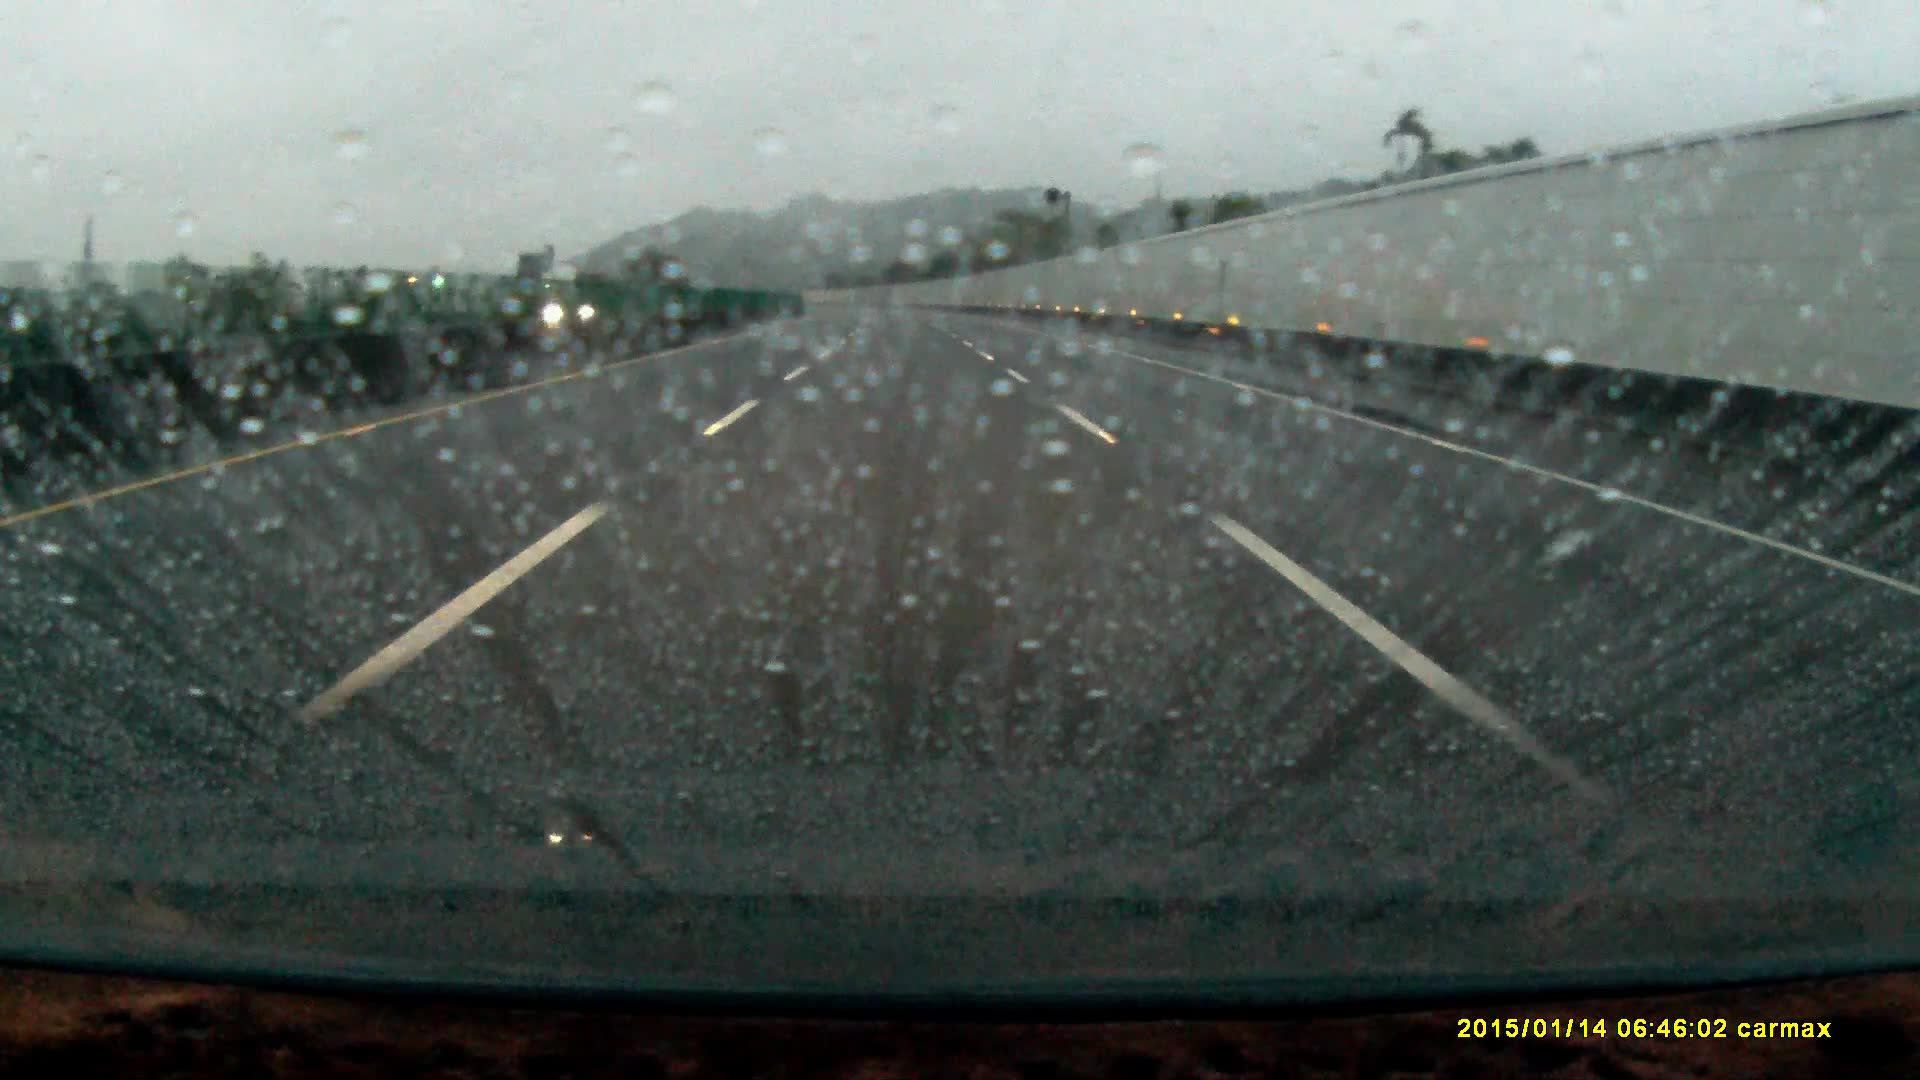vehicle: (558, 290, 618, 320)
